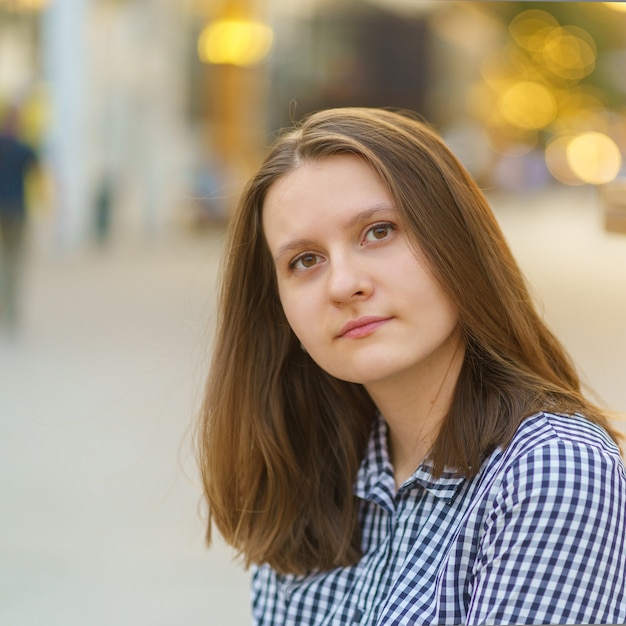teen: (243, 80, 482, 457)
